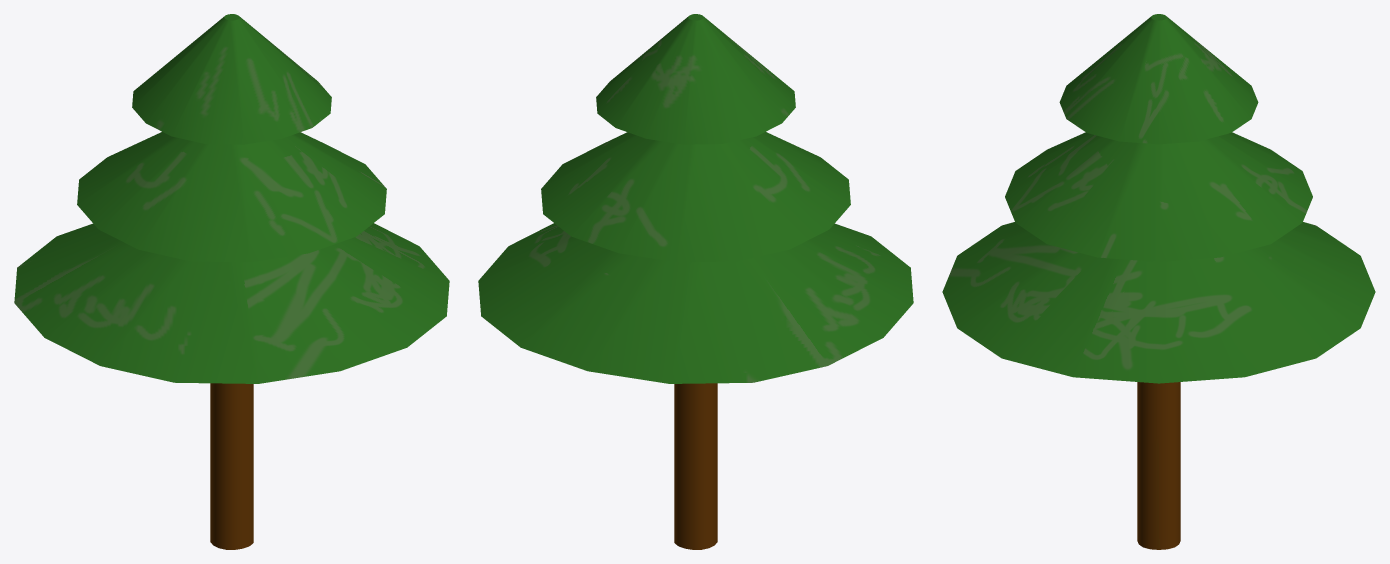
File: Tree.fbx
3 views of the same model, side by side, from view 1: azimuth 30°, elevation 25°; view 2: azimuth 150°, elevation 25°; view 3: azimuth 270°, elevation 25° (orthographic).
Visible parts, largest first — view 1: Cube; view 2: Cube; view 3: Cube.
Boxes of the visible parts, bbox=[...] form: Cube: bbox=[14, 14, 449, 549]; Cube: bbox=[478, 14, 913, 549]; Cube: bbox=[942, 14, 1375, 549].
Bounding box in the file's own units: 1679 × 2239 × 1679.
